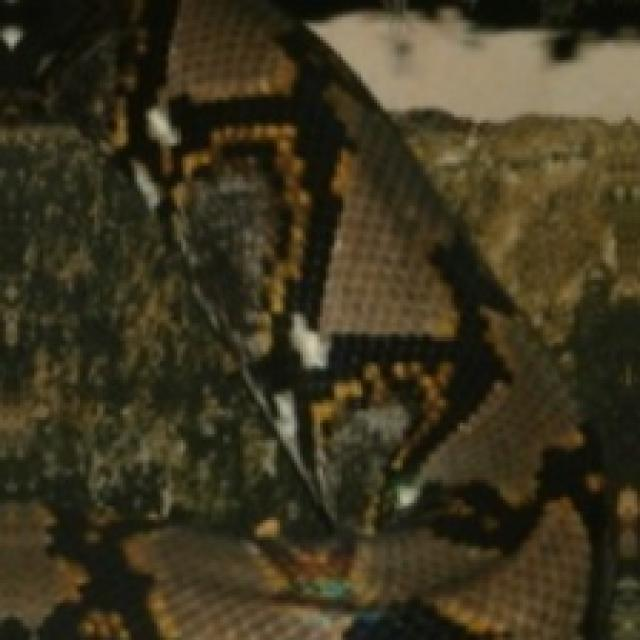reticulated python: (0, 0, 620, 639)
